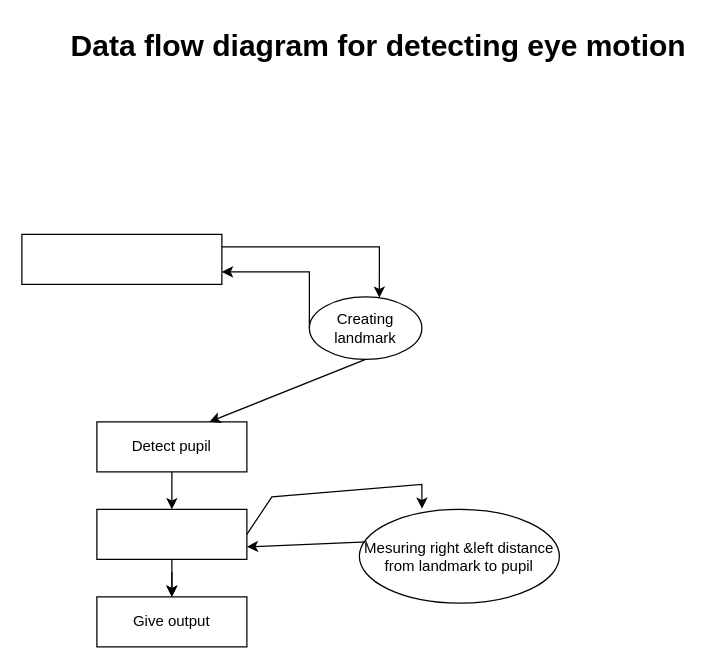
Some shapes in this 708 by 669 pixel diagram are drawn without their labels. The centre of each missing label's shape, as x and y in pixels:
"Detect eye" goes at (x=121, y=258).
"Movement detect" goes at (x=171, y=533).
